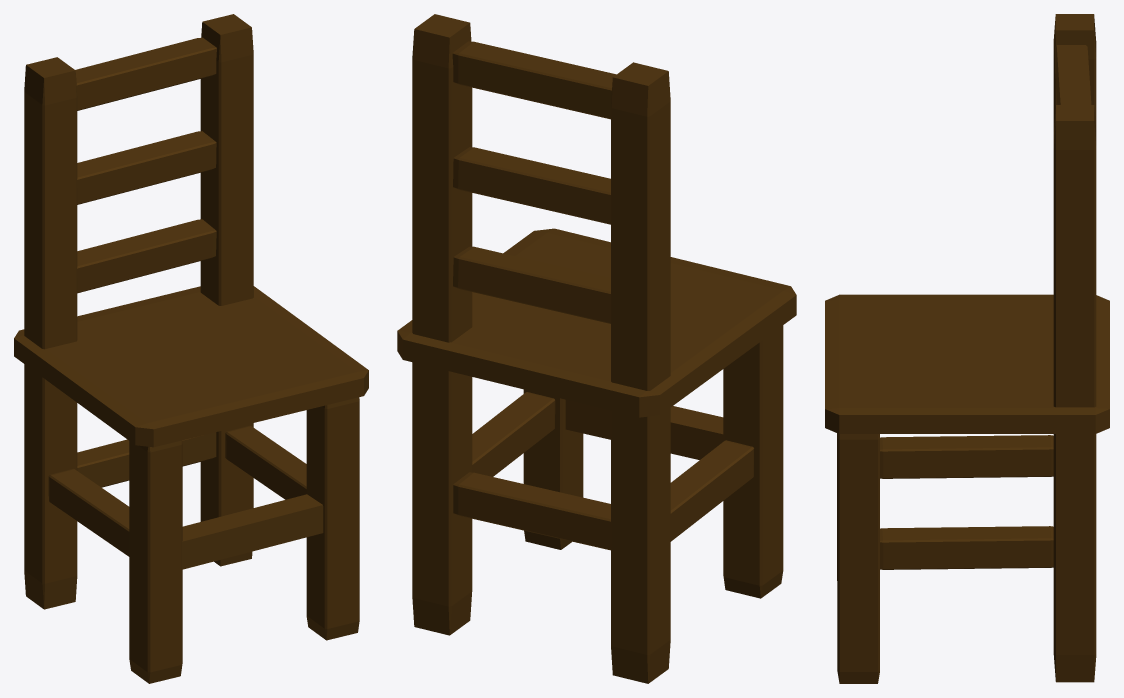
Rendered from silla.fbx.
3 renders of one model, left to right at view 1: azimuth 30°, elevation 25°; view 2: azimuth 150°, elevation 25°; view 3: azimuth 270°, elevation 25°, orthographic. The views are drawn at different scales.
Parts seen in each view (by area): view 1: Base, Pata1, Pata2, Pata4, Pata3, Pata8, Respaldo3, Respaldo2, Respaldo1, Pata6, Pata7, Pata5; view 2: Pata1, Pata2, Base, Pata4, Respaldo1, Pata5, Respaldo2, Respaldo3, Pata6, Pata7, Pata3, Pata8; view 3: Base, Pata2, Pata3, Pata6, Pata7, Respaldo1, Pata1.
Boxes of the visible parts, x1,y1,x2,y2 form: Base: (14, 286, 368, 447); Pata1: (24, 57, 77, 609); Pata2: (200, 14, 253, 566); Pata4: (129, 440, 182, 683); Pata3: (306, 397, 359, 640); Pata8: (182, 494, 323, 569); Respaldo3: (77, 219, 216, 293); Respaldo2: (77, 131, 216, 204); Respaldo1: (75, 37, 216, 110); Pata6: (48, 469, 129, 556); Pata7: (225, 425, 306, 499); Pata5: (77, 432, 216, 487); Pata1: (611, 62, 670, 683); Pata2: (412, 14, 472, 635); Base: (397, 228, 796, 417); Pata4: (723, 325, 783, 598); Respaldo1: (452, 41, 616, 119); Pata5: (453, 472, 610, 550); Respaldo2: (453, 147, 610, 224); Respaldo3: (453, 246, 610, 323); Pata6: (670, 440, 754, 541); Pata7: (472, 392, 555, 476); Pata3: (523, 389, 583, 549); Pata8: (565, 400, 723, 459); Base: (825, 294, 1109, 433); Pata2: (1053, 105, 1096, 682); Pata3: (837, 433, 879, 683); Pata6: (880, 435, 1053, 478); Pata7: (880, 526, 1053, 569); Respaldo1: (1055, 45, 1091, 104); Pata1: (1053, 14, 1096, 131).
Bounding box in the file's own units: 200 × 435 × 200.
